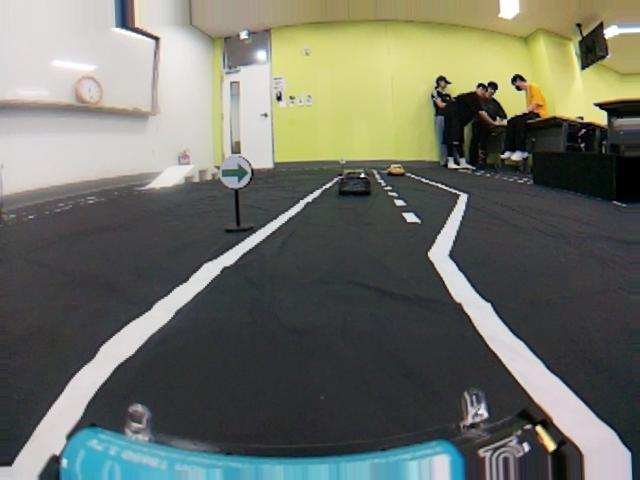car: (341, 165, 373, 200), (386, 161, 408, 175)
sign_right: (215, 160, 256, 187)
straight: (1, 250, 640, 475)
